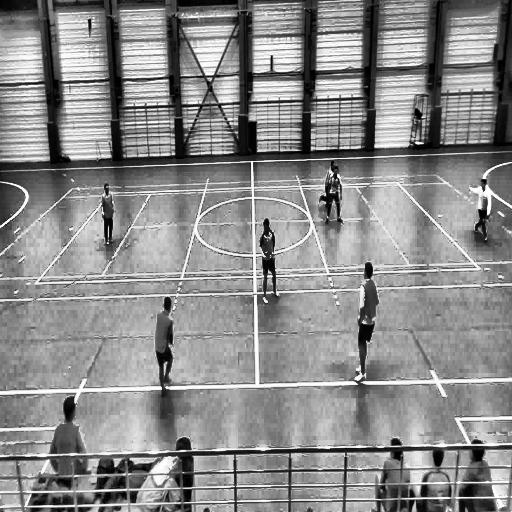player: (354, 260, 378, 384), (155, 296, 174, 395), (259, 219, 280, 302), (470, 174, 491, 244), (319, 157, 337, 214), (325, 165, 342, 225), (101, 182, 116, 248)
